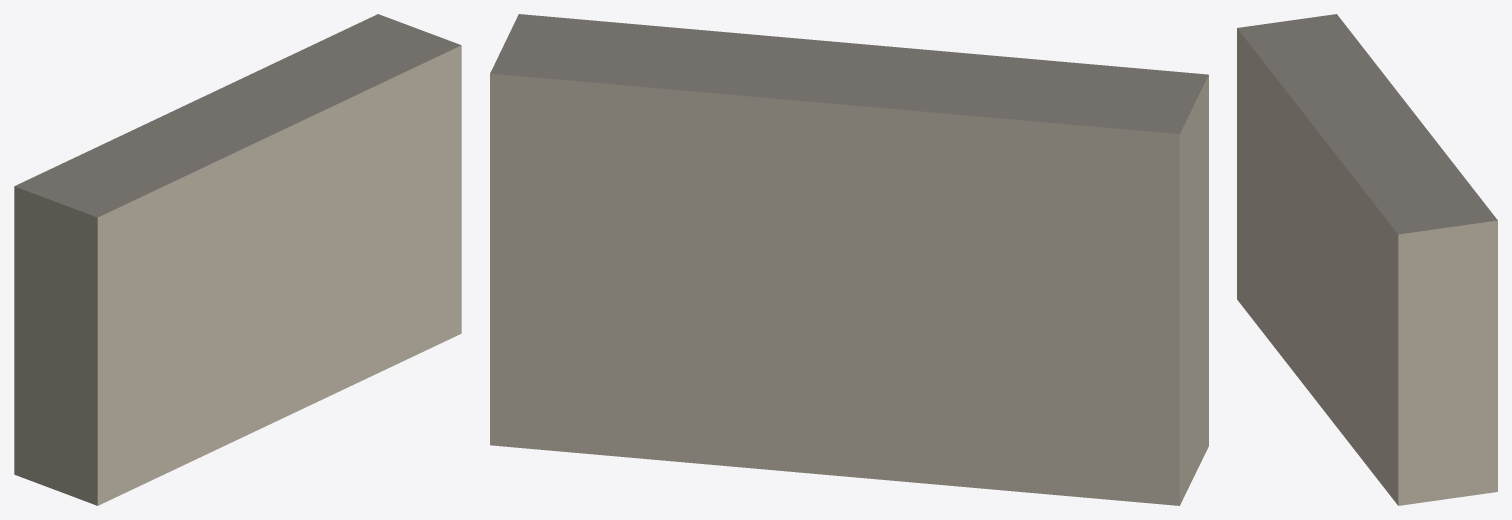
3 views of the same model, side by side, from view 1: azimuth 30°, elevation 25°; view 2: azimuth 150°, elevation 25°; view 3: azimuth 270°, elevation 25° (orthographic). The views are drawn at different scales.
Parts seen in each view (by area): view 1: HP-w1198897475; view 2: HP-w1198897475; view 3: HP-w1198897475.
Part boxes in pixels (left/top/right/bottom): HP-w1198897475: left=14, top=14, right=461, bottom=505; HP-w1198897475: left=490, top=14, right=1208, bottom=505; HP-w1198897475: left=1237, top=14, right=1497, bottom=505.
Size of the model in its own units: 31.36 by 18 by 15.68.
